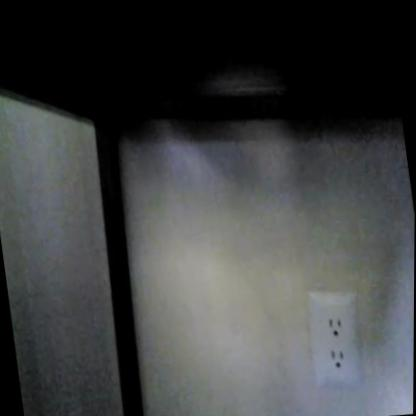OUTLET: (302, 281, 370, 398)
